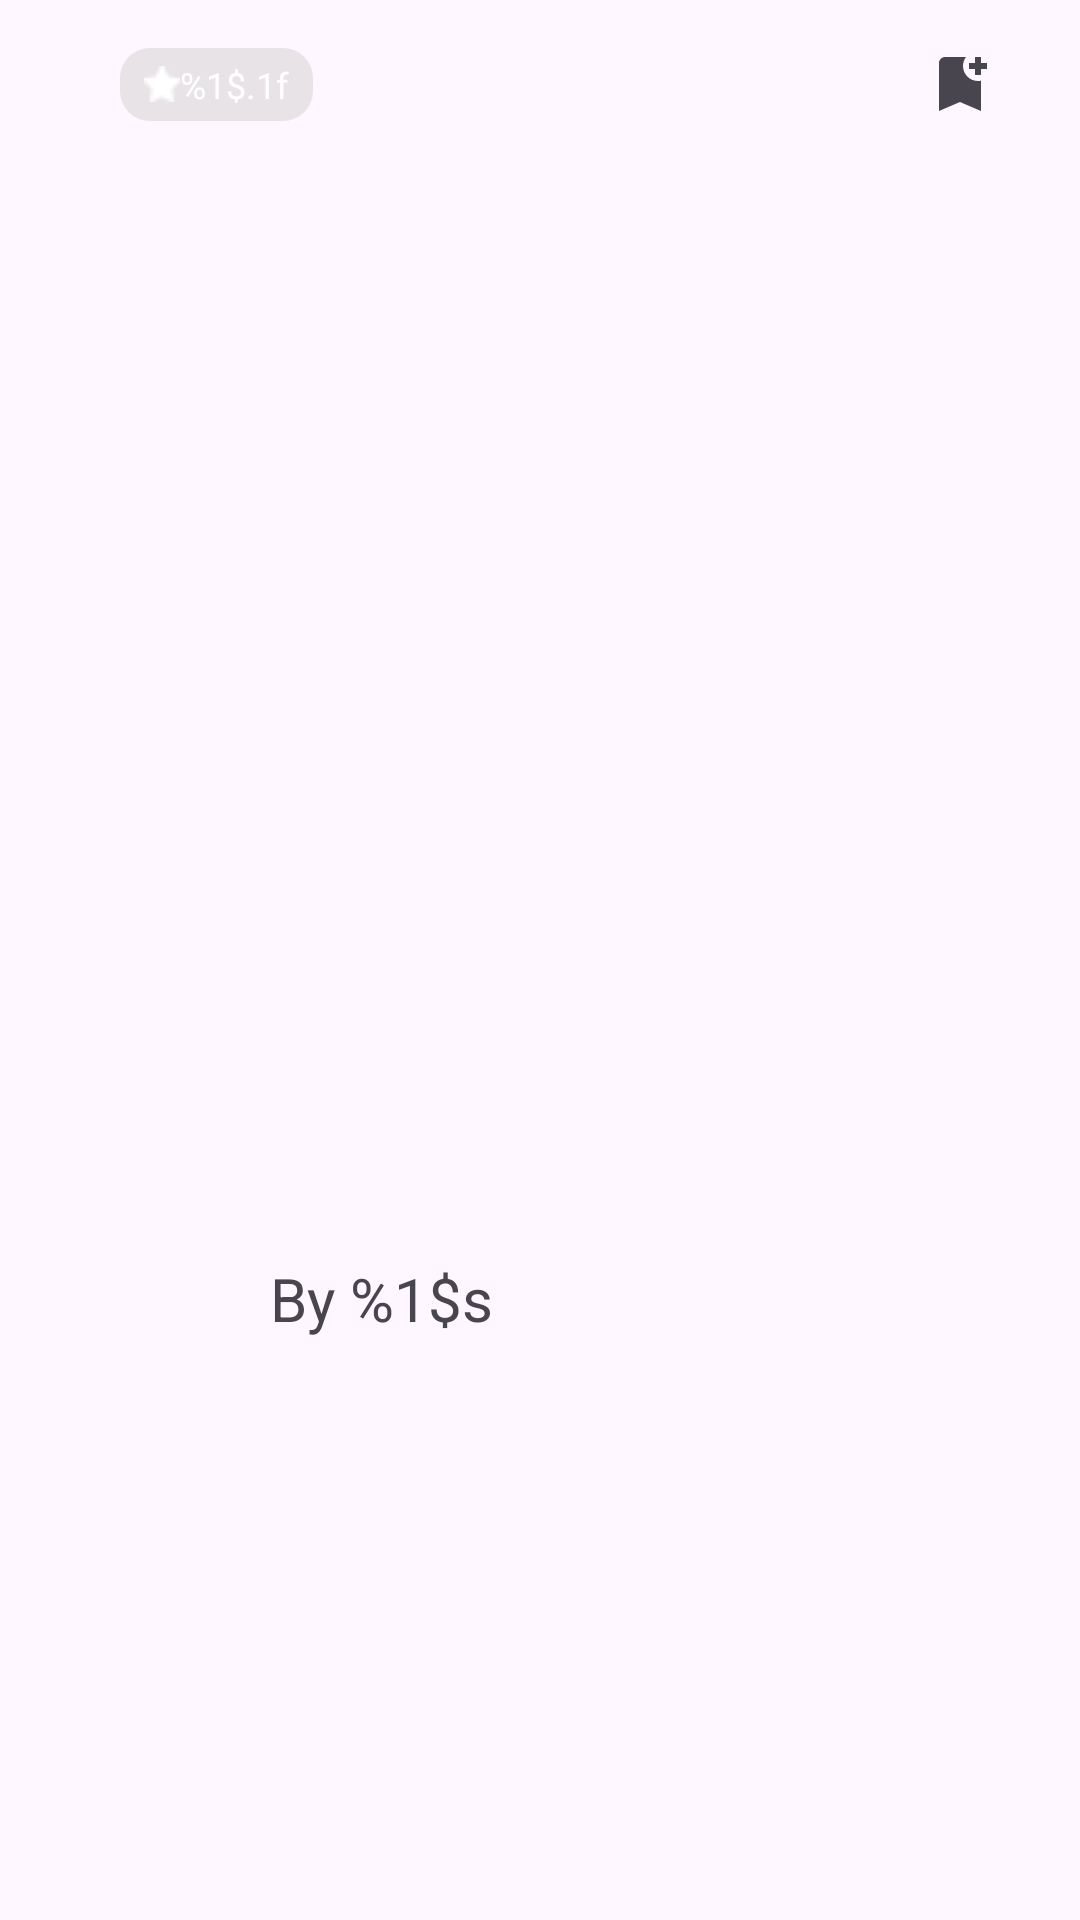

Icon click points for this 1080px×1920px phone screenshot, format point (x, y):
radio bookmark: point (963, 84)
